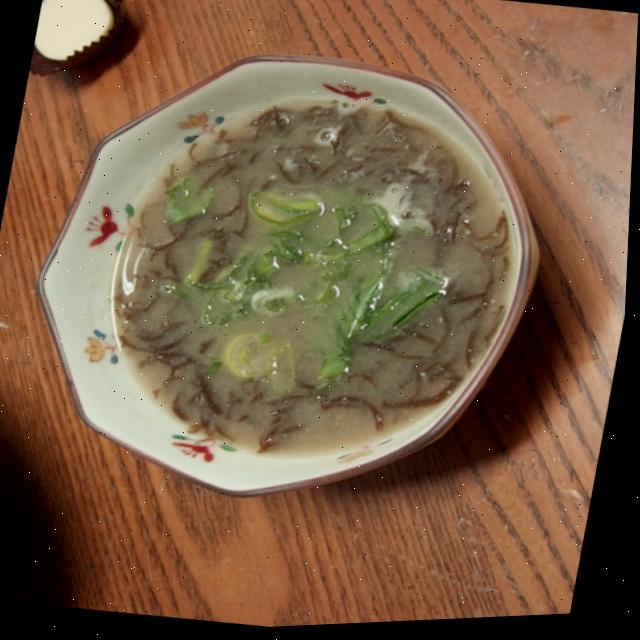蔬菜料理: (9, 10, 576, 554)
